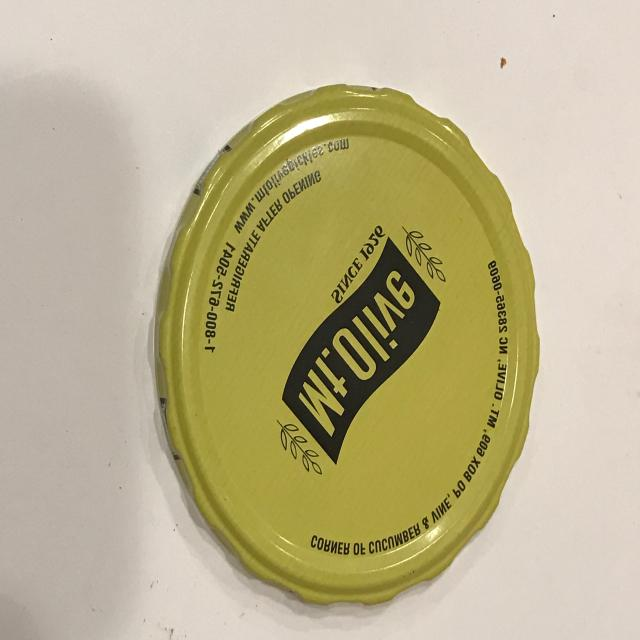metal: (152, 82, 541, 606)
